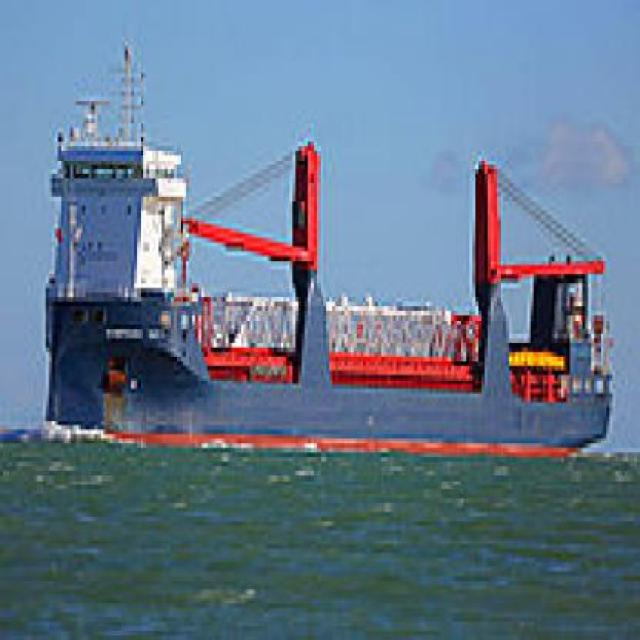container: (37, 24, 623, 467)
